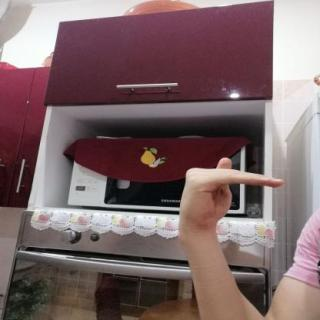KHAA: (165, 153, 294, 244)
